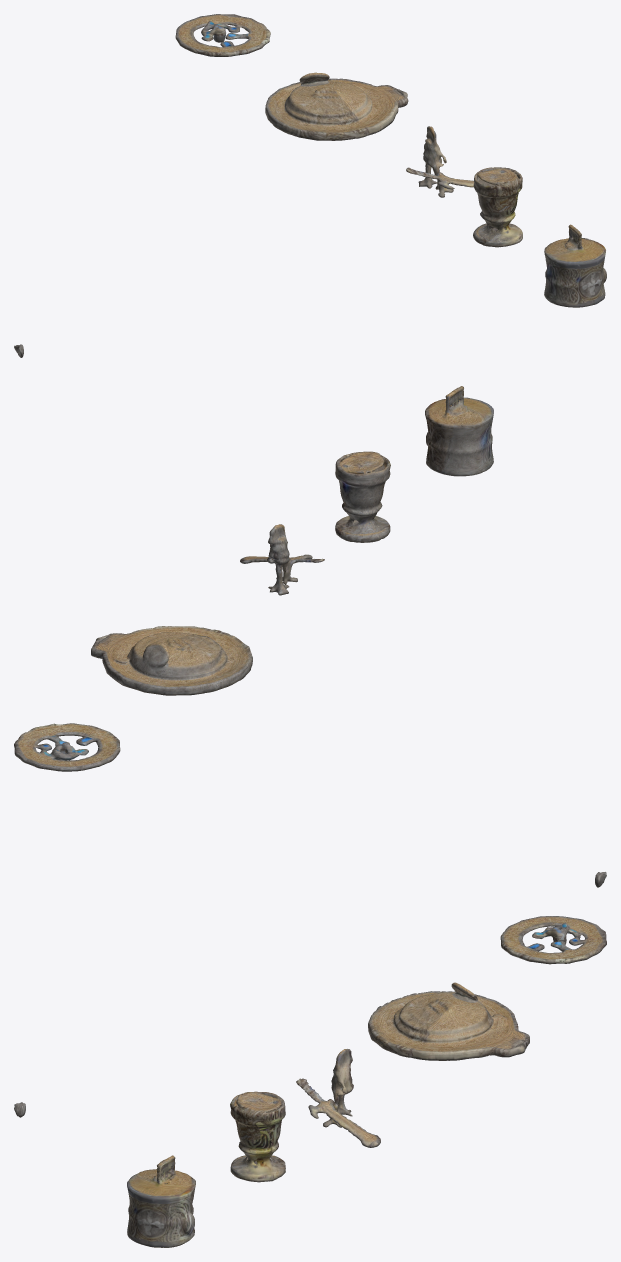
3 renders of one model, top to bottom at view 1: azimuth 30°, elevation 25°; view 2: azimuth 150°, elevation 25°; view 3: azimuth 330°, elevation 25°, orthographic. The views are drawn at different scales.
Parts seen in each view (by area): view 1: file1; view 2: file1; view 3: file1.
Part boxes in pixels (x1=…): file1: x1=14, y1=14, x2=606, y2=357; file1: x1=14, y1=386, x2=606, y2=887; file1: x1=14, y1=916, x2=606, y2=1247.
Size of the model in its own units: 1.25 by 0.5706 by 2.
Materials: 1 (1 with a texture image).
